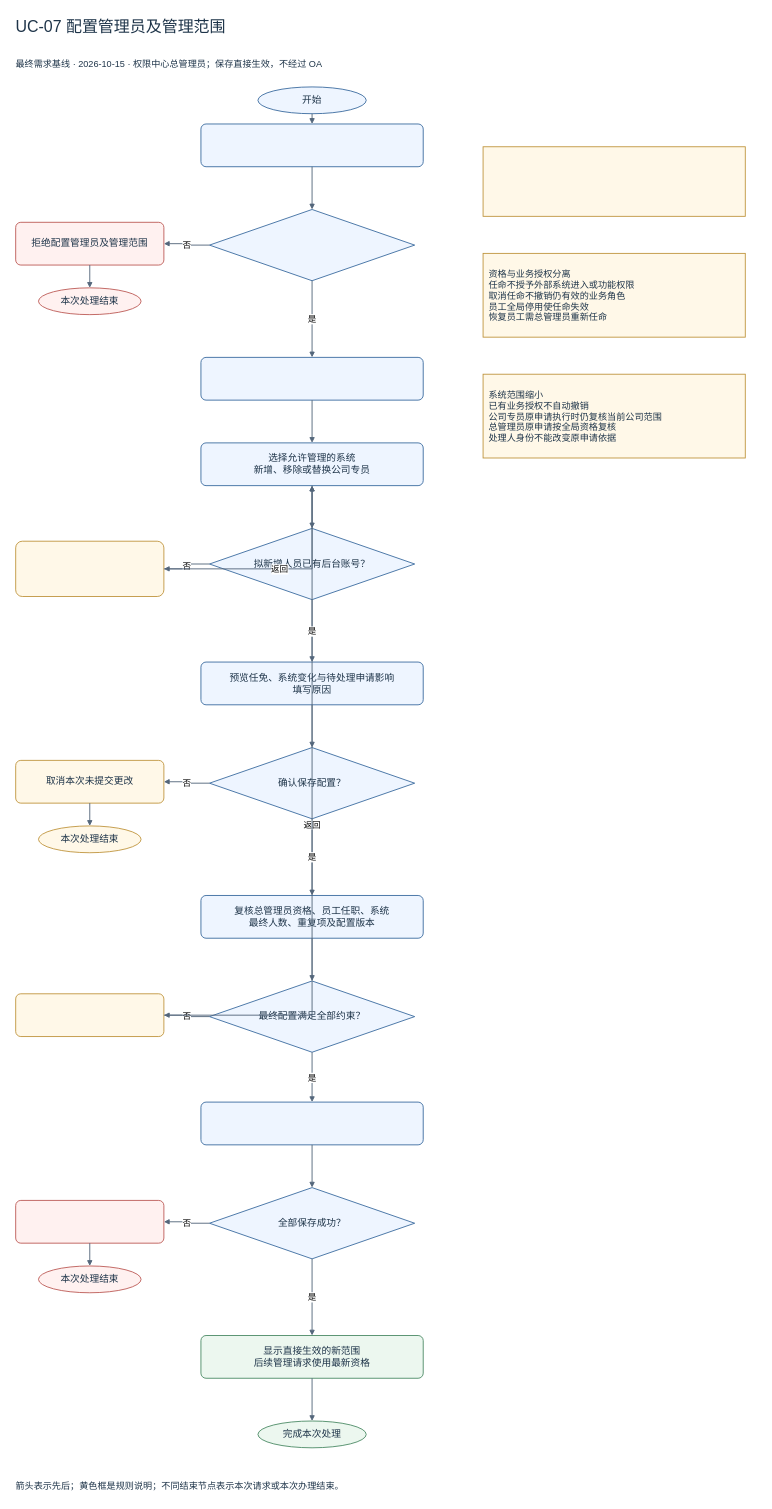
This 772x1509 diagram has some shape labels left out. Here are the shapes that lost their labels. From the top down, the centre of each, then its label:
[311,145]: 打开管理员配置，选择目标公司
[613,181]: 人员与共享范围 每公司通常 1～3 名专员，可暂为零 同公司共享角色管理，不逐个指定角色 总公司范围不自动包含其他分公司
[312,245]: 总管理员会话及资格有效？
[311,378]: 读取公司部门、专员名单 共同系统范围及配置版本
[89,569]: 由总管理员按 UC-09 创建账号 创建成功不等于已任命
[89,1015]: 显示问题或版本冲突 重新读取并修正
[311,1123]: 整体保存名单、系统范围、版本与审计
[89,1221]: 本次事务回滚，旧名单和范围不变
